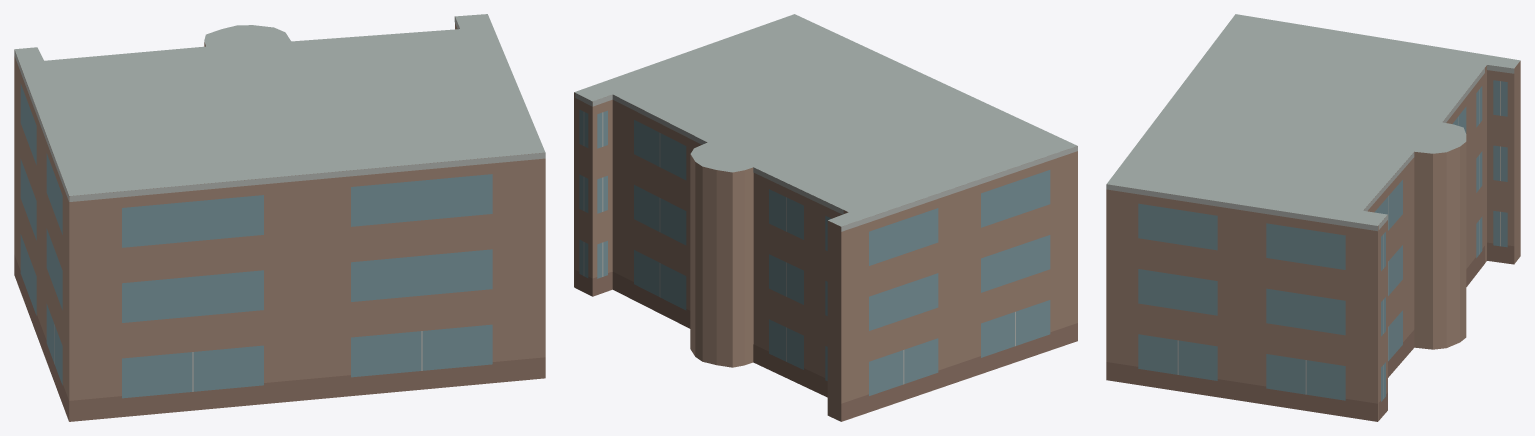
File: survey-upis-32474004.glb
The picture shows the model from 3 angles, left to right: view 1: azimuth 30°, elevation 25°; view 2: azimuth 150°, elevation 25°; view 3: azimuth 270°, elevation 25°; orthographic projection. The views are drawn at different scales.
Visible parts, largest first — view 1: survey-upis-32474004.tmp; view 2: survey-upis-32474004.tmp; view 3: survey-upis-32474004.tmp.
Boxes of the visible parts, x1,y1,x2,y2 form: survey-upis-32474004.tmp: (14, 14, 545, 421); survey-upis-32474004.tmp: (574, 14, 1077, 421); survey-upis-32474004.tmp: (1106, 14, 1520, 421).
Size of the model in its own units: 21.24 by 9.15 by 17.54.
